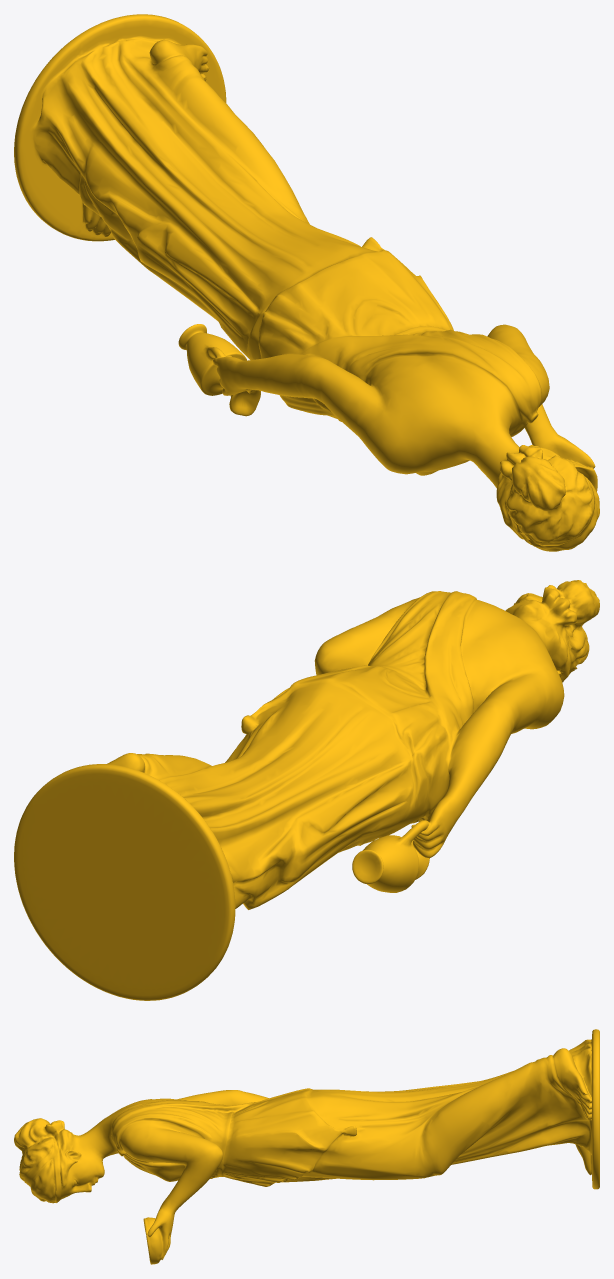
File: Statue.dae
3 renders of one model, top to bottom at view 1: azimuth 30°, elevation 25°; view 2: azimuth 150°, elevation 25°; view 3: azimuth 270°, elevation 25°, orthographic. The views are drawn at different scales.
Visible parts, largest first — view 1: Statue_E0_P0_MESH_0_REF_1; view 2: Statue_E0_P0_MESH_0_REF_1; view 3: Statue_E0_P0_MESH_0_REF_1.
Boxes of the visible parts, x1=… form: Statue_E0_P0_MESH_0_REF_1: x1=14, y1=14, x2=599, y2=551; Statue_E0_P0_MESH_0_REF_1: x1=14, y1=580, x2=599, y2=1000; Statue_E0_P0_MESH_0_REF_1: x1=14, y1=1029, x2=599, y2=1264.
Size of the model in its own units: 28.3 by 31.89 by 89.16.
